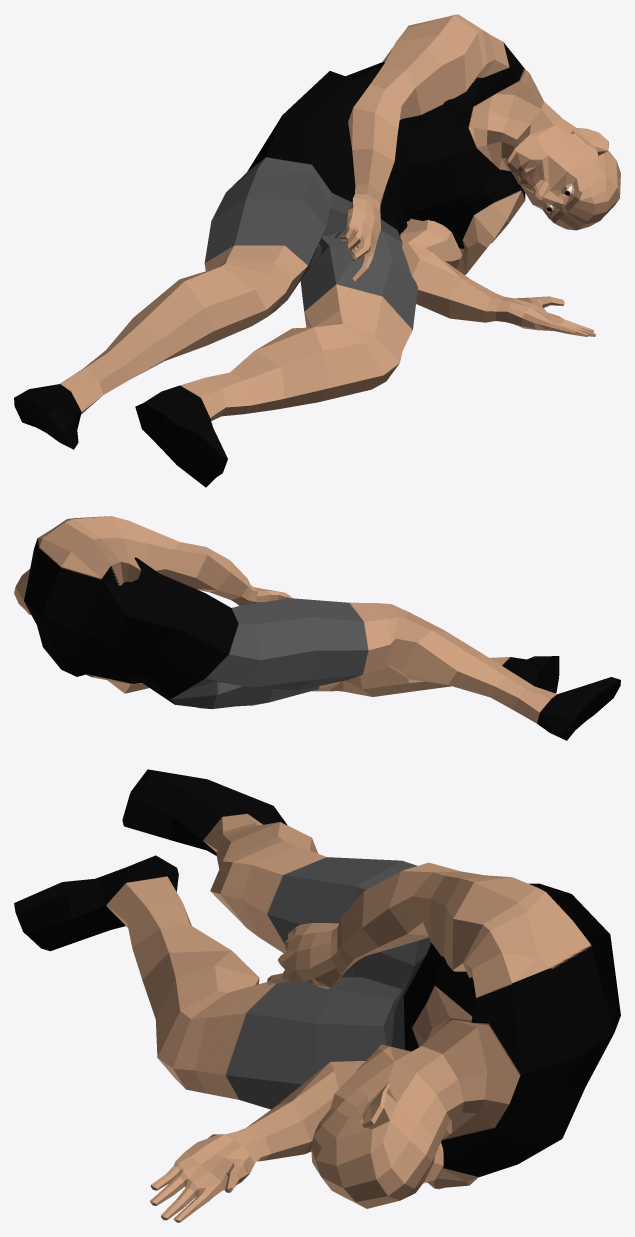
File: PlayerDead(94).obj
The picture shows the model from 3 angles, top to bottom: view 1: azimuth 30°, elevation 25°; view 2: azimuth 150°, elevation 25°; view 3: azimuth 270°, elevation 25°; orthographic projection. The views are drawn at different scales.
Parts seen in each view (by area): view 1: Plane002; view 2: Plane002; view 3: Plane002.
Boxes of the visible parts, x1=… form: Plane002: x1=14, y1=14, x2=620, y2=487; Plane002: x1=14, y1=516, x2=620, y2=740; Plane002: x1=14, y1=769, x2=620, y2=1222.
Bounding box in the file's own units: 1577 × 550 × 927.
